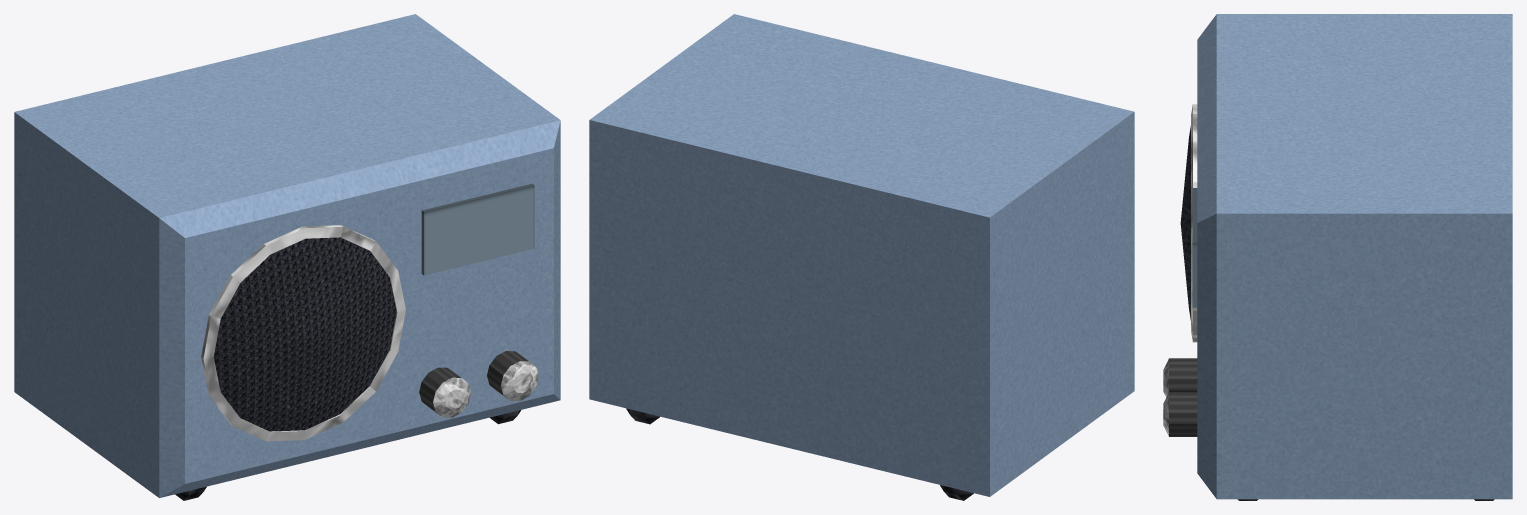
The model's file is radio-tx.obj.
The picture shows the model from 3 angles, left to right: view 1: azimuth 30°, elevation 25°; view 2: azimuth 150°, elevation 25°; view 3: azimuth 270°, elevation 25°; orthographic projection. The views are drawn at different scales.
Visible parts, largest first — view 1: Cube_Cube.001; view 2: Cube_Cube.001; view 3: Cube_Cube.001.
Part boxes in pixels (box(x1,y1,x2,y2)): Cube_Cube.001: box(14, 14, 560, 500); Cube_Cube.001: box(589, 14, 1134, 500); Cube_Cube.001: box(1163, 14, 1512, 500).
Bounding box in the file's own units: 6 × 4.28 × 4.43.
